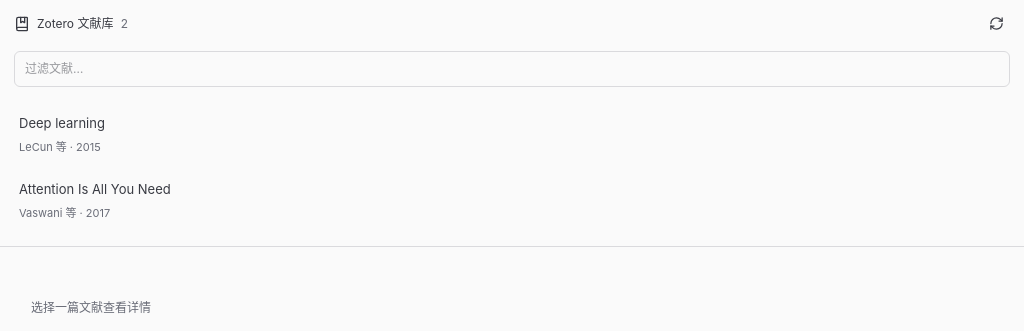
Scenario: ZoteroLibraryPanel › 过滤框按标题/作者/citekey 缩减列表
This screenshot has width=1024, height=331.
Expected: the text "Deep learning" is shown, [19,113,105,134]
Step 1. Type "vaswani" into the field with placeholder "过滤文献…" → (512, 69), box [14,51,1010,87]
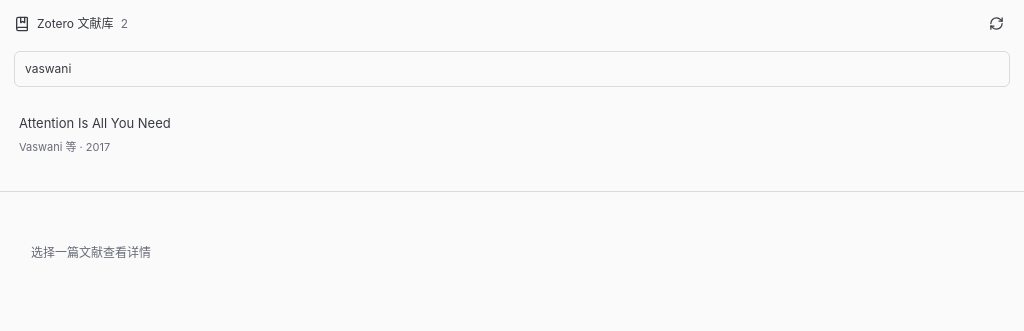
Expected: the text "Attention Is All You Need" is shown, [19,113,171,134]
Now the button "Deep learning" is gone
